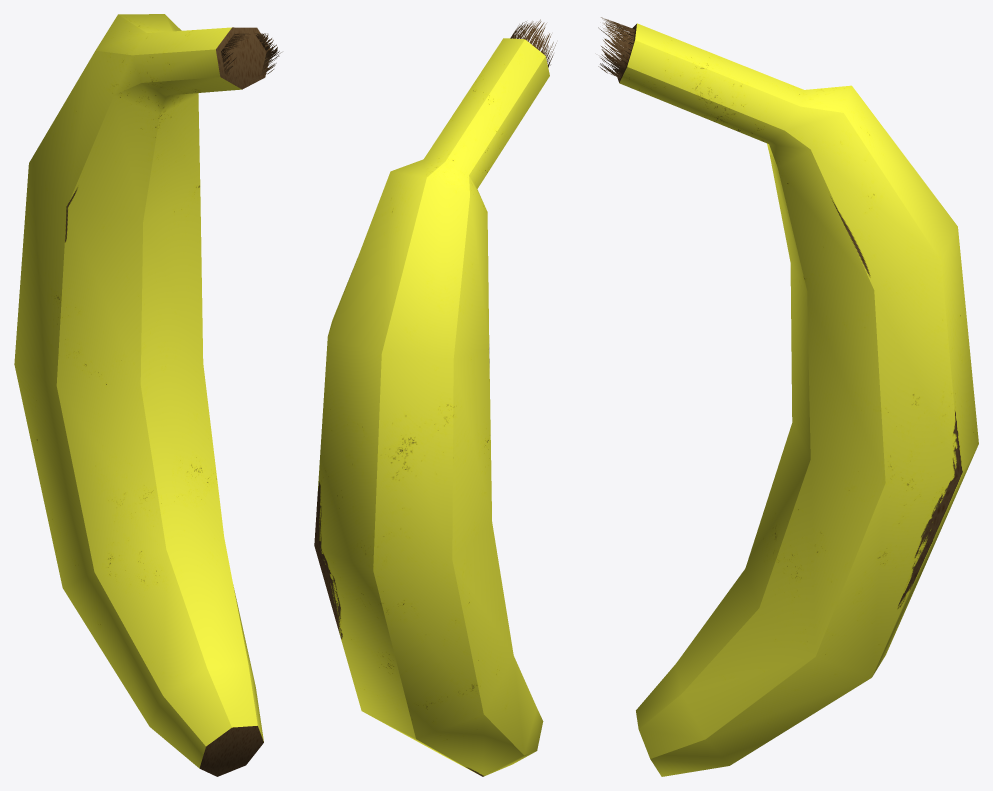
File: Banana.glb
3 renders of one model, left to right at view 1: azimuth 30°, elevation 25°; view 2: azimuth 150°, elevation 25°; view 3: azimuth 270°, elevation 25°, orthographic. The views are drawn at different scales.
Visible parts, largest first — view 1: Cylinder; view 2: Cylinder; view 3: Cylinder.
Boxes of the visible parts, <box> form: Cylinder: <box>14,14,281,776</box>; Cylinder: <box>314,19,556,776</box>; Cylinder: <box>598,17,978,776</box>.
Size of the model in its own units: 0.0492 by 0.2238 by 0.1042.
1 material, 1 textured.
